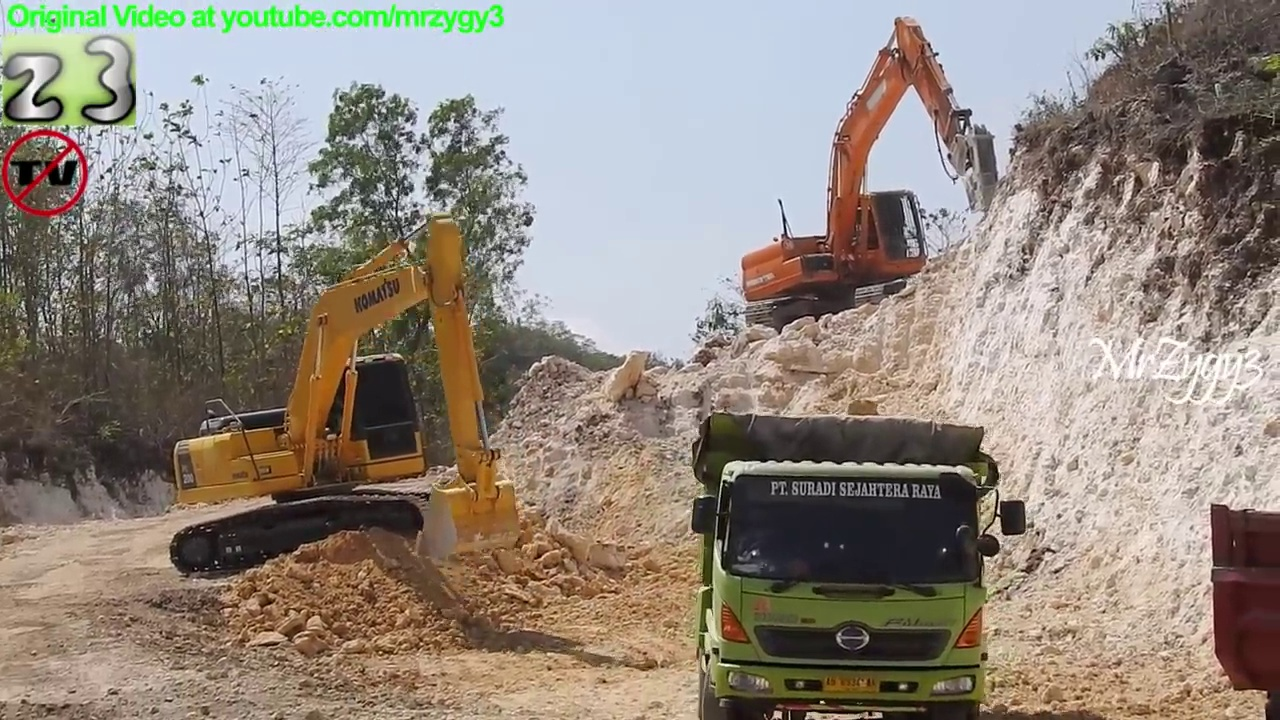excavator: (164, 206, 531, 585), (733, 7, 1006, 341)
truck: (685, 406, 1035, 720), (1206, 496, 1280, 720)
